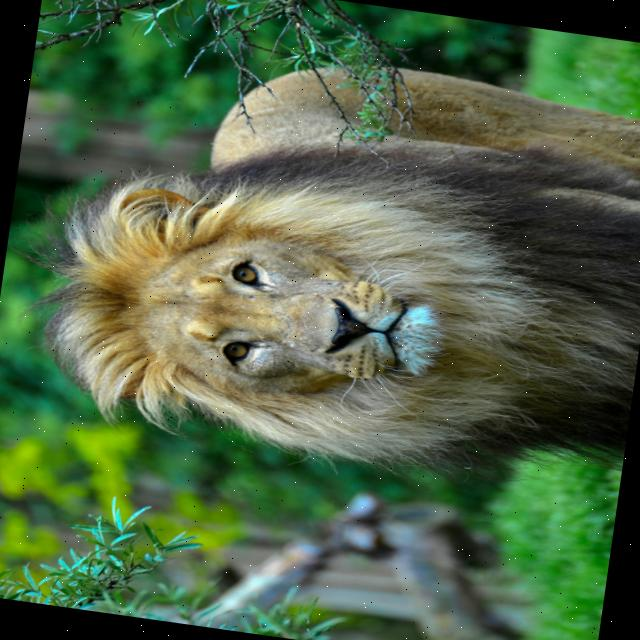Lion: (26, 21, 640, 494)
